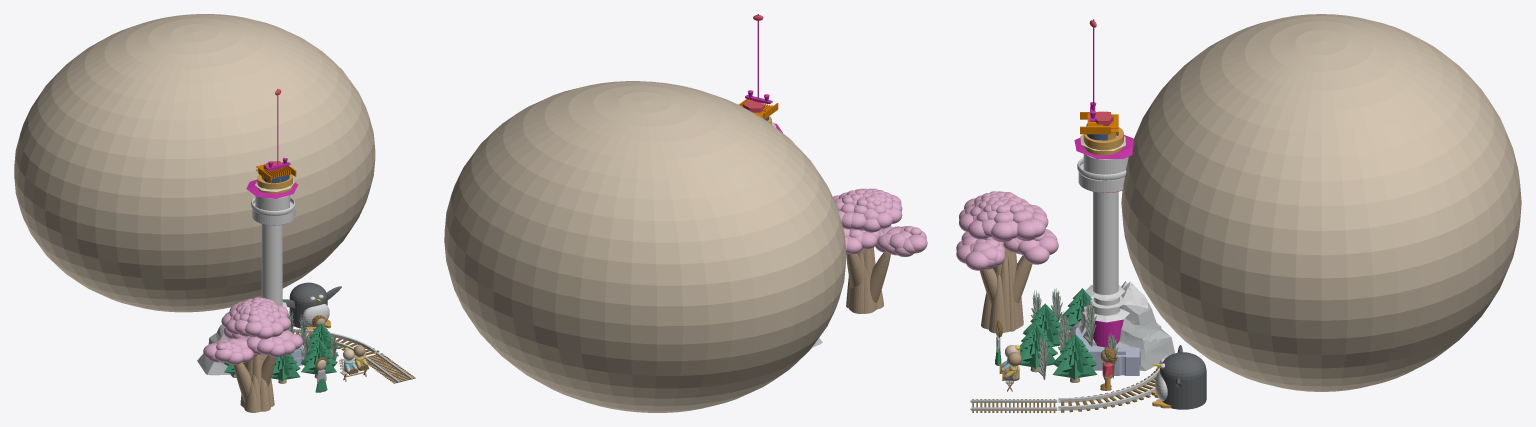
Rendered from Corea.glb.
3 views of the same model, side by side, from view 1: azimuth 30°, elevation 25°; view 2: azimuth 150°, elevation 25°; view 3: azimuth 270°, elevation 25° (orthographic). The views are drawn at different scales.
Visible parts, largest first — view 1: Mesh_Mesh_head_geo.001_lambert2SG.001; view 2: Mesh_Mesh_head_geo.001_lambert2SG.001; view 3: Mesh_Mesh_head_geo.001_lambert2SG.001.
Part boxes in pixels (x1=…): Mesh_Mesh_head_geo.001_lambert2SG.001: x1=14, y1=14, x2=415, y2=412; Mesh_Mesh_head_geo.001_lambert2SG.001: x1=444, y1=14, x2=927, y2=412; Mesh_Mesh_head_geo.001_lambert2SG.001: x1=956, y1=14, x2=1521, y2=412.
Size of the model in its own units: 0.3555 by 0.289 by 0.4358.
